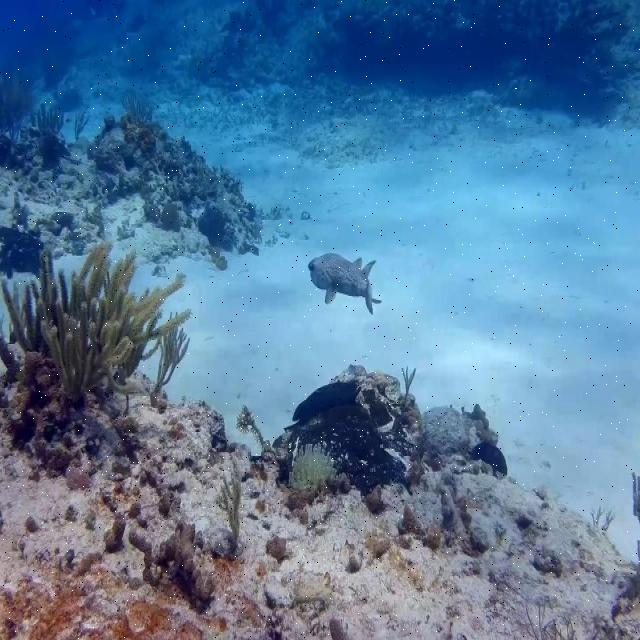aquatic plants: (1, 244, 194, 395)
fish: (309, 253, 382, 317)
reefs: (2, 354, 639, 639), (1, 110, 263, 273)
